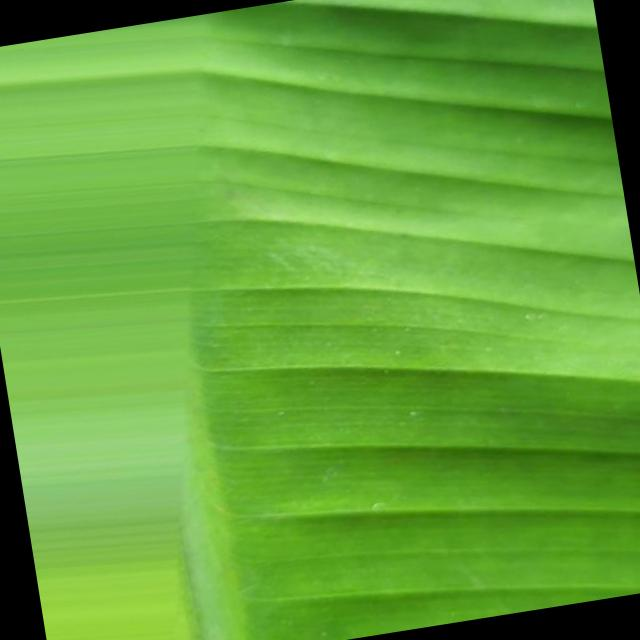Banana_Healthy: (165, 24, 640, 510)
